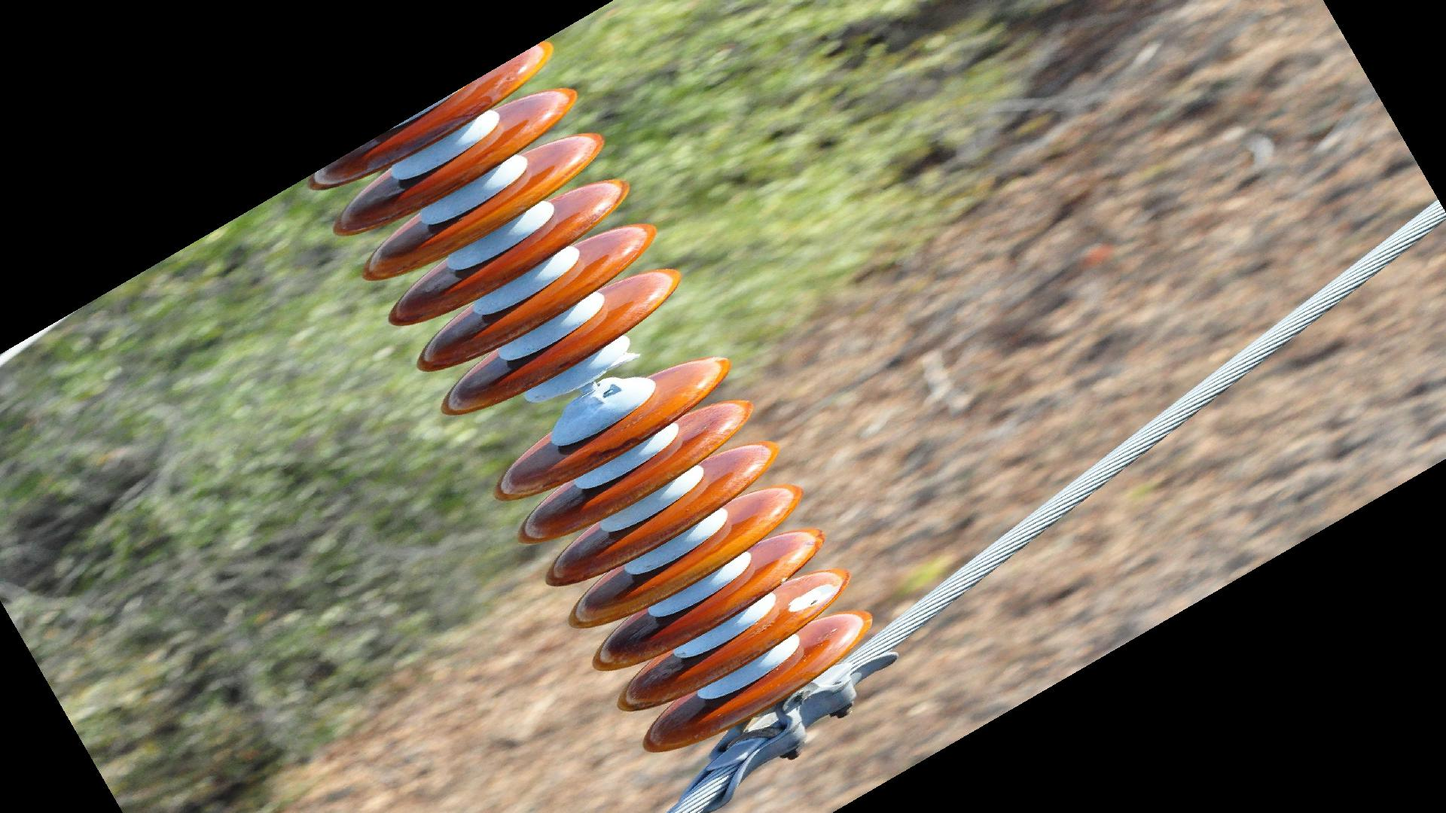insulator: (490, 349, 880, 763), (304, 36, 691, 419)
insulator_breakage: (785, 577, 841, 620)
